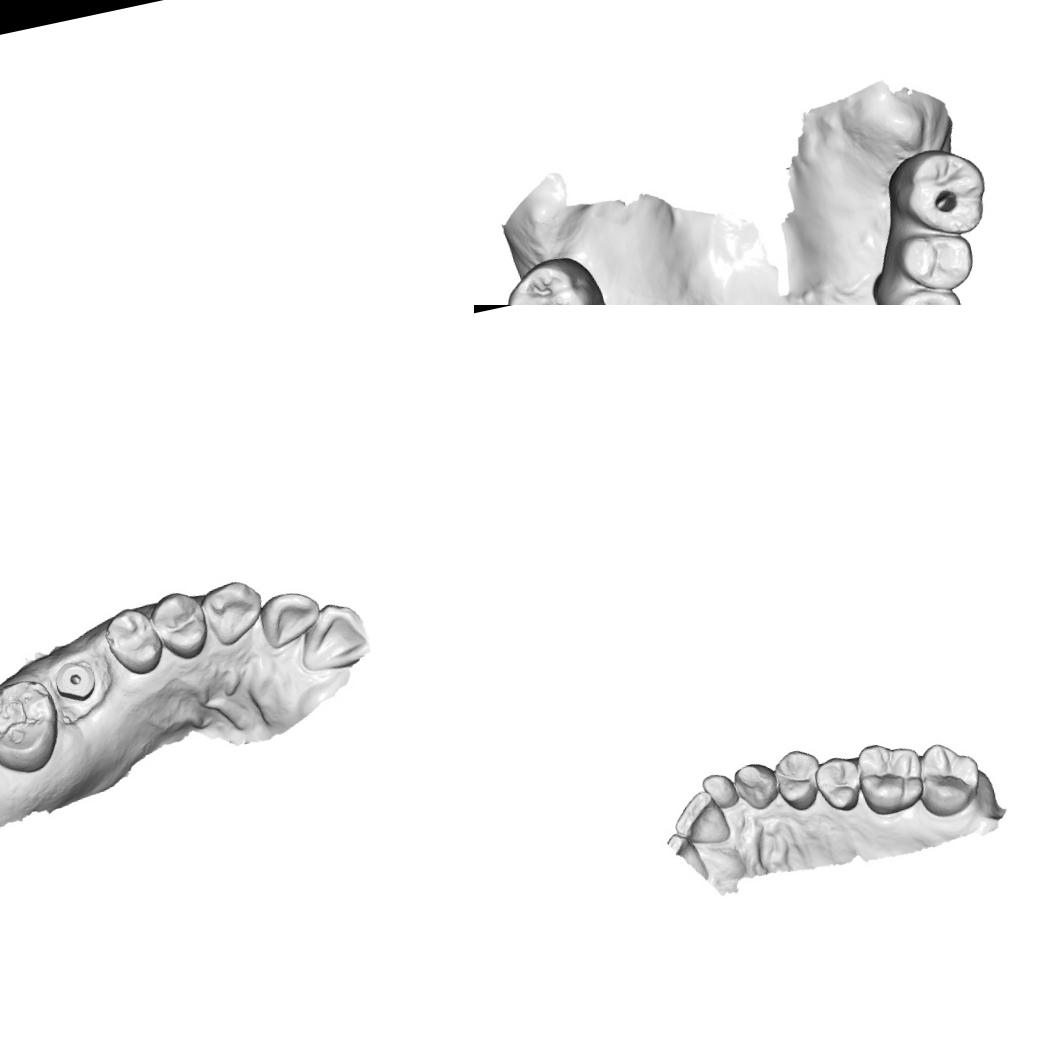canine: (199, 574, 271, 650), (730, 758, 782, 814)
implant: (52, 656, 100, 705)
incisor: (290, 596, 373, 678), (257, 584, 327, 654), (667, 786, 733, 852), (700, 768, 742, 814)
molar: (884, 140, 996, 247), (0, 673, 69, 782), (910, 735, 988, 822), (852, 734, 930, 820), (496, 254, 604, 305)
premolar: (886, 220, 982, 302), (98, 603, 166, 682), (148, 585, 213, 665), (770, 744, 828, 815), (810, 752, 868, 816), (880, 273, 969, 305)
